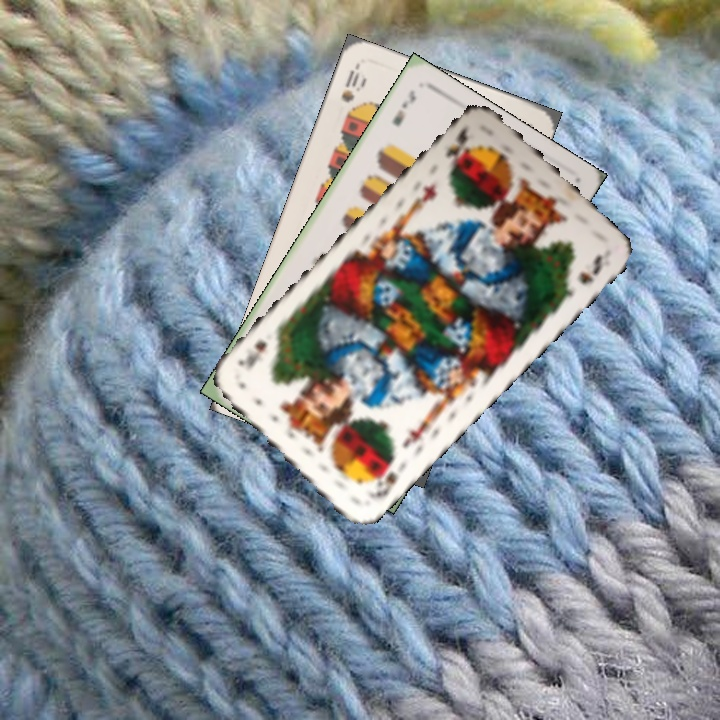E7: (388, 86, 419, 129)
S10: (337, 63, 367, 106)
SK: (363, 453, 400, 502), (441, 121, 472, 168)
